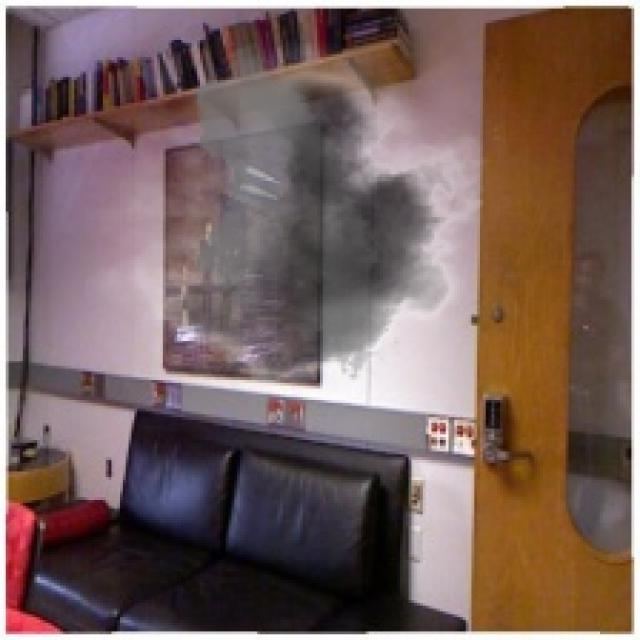smoke: (83, 43, 506, 411)
